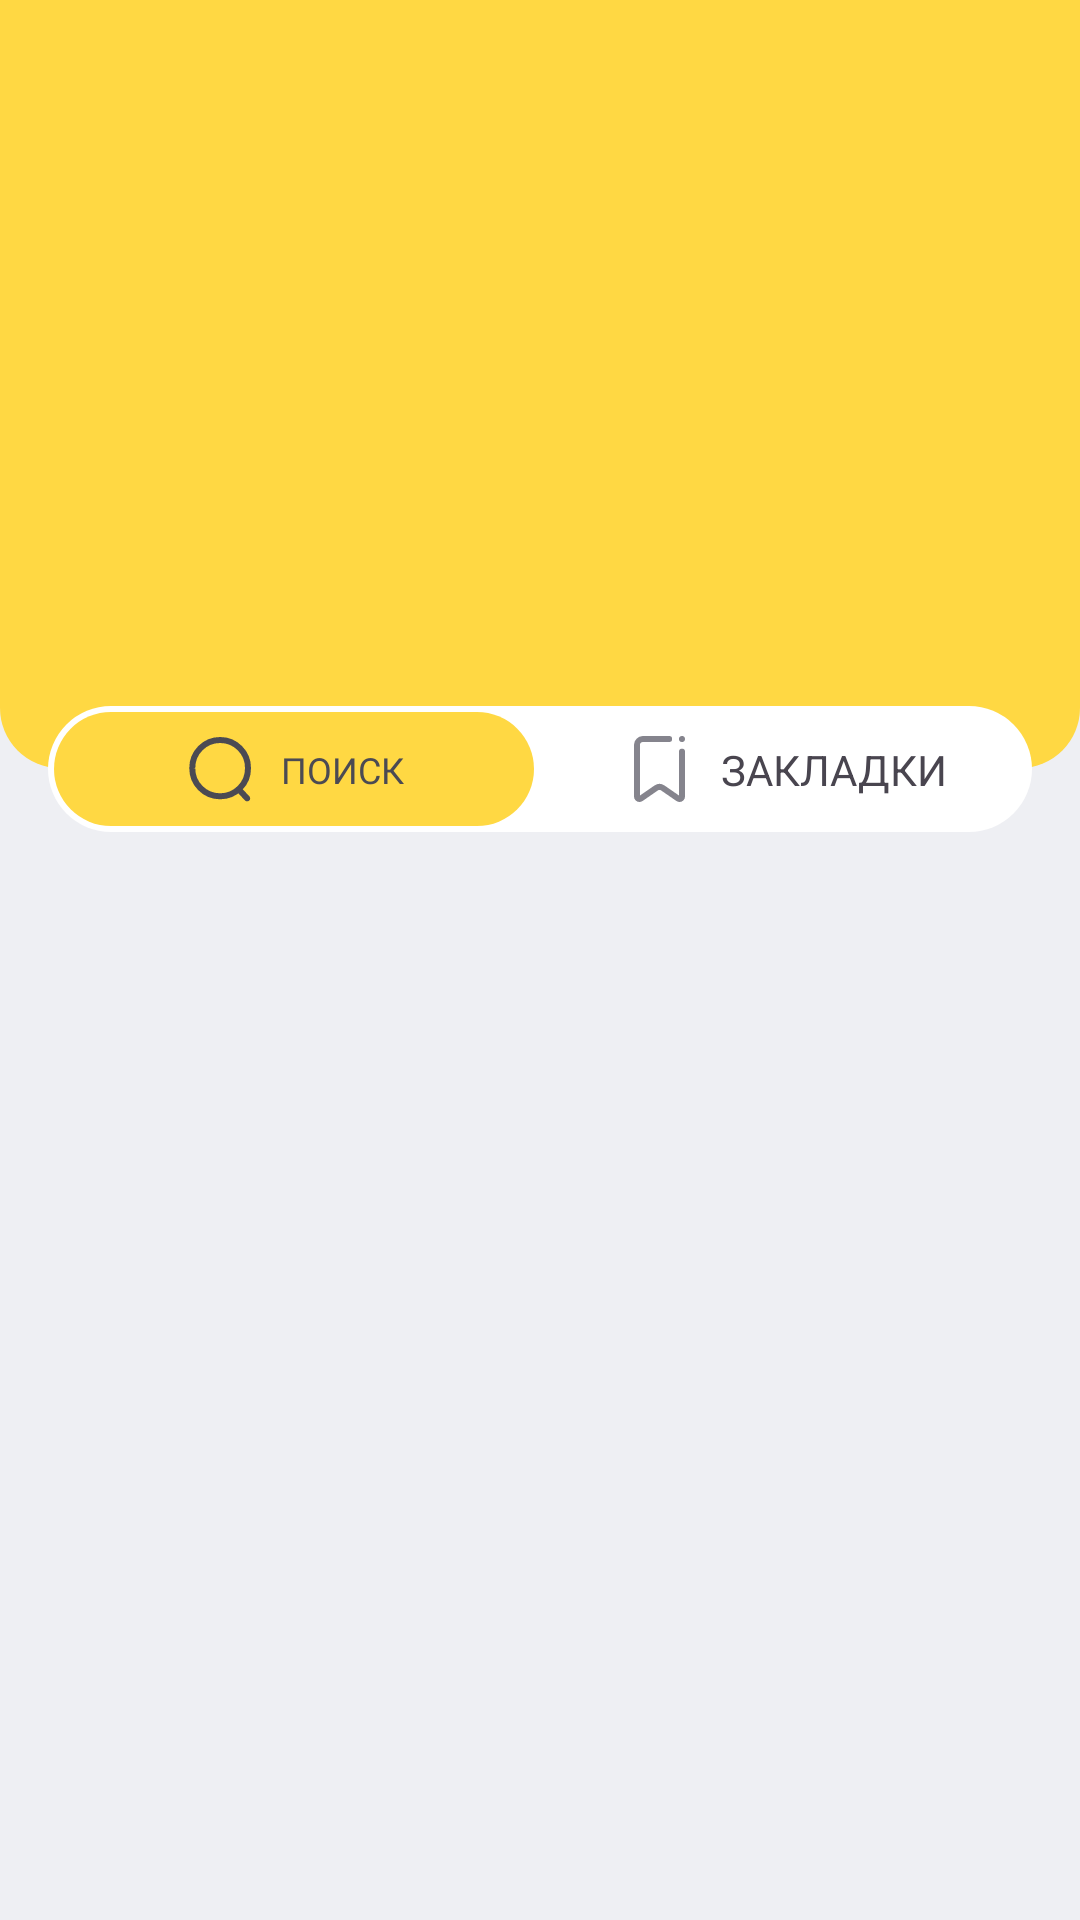

Icon click points for this 1080 x 1920 phone screenshot, format (x=x, y=y):
bookmark: (x=659, y=769)
search: (x=220, y=769)
